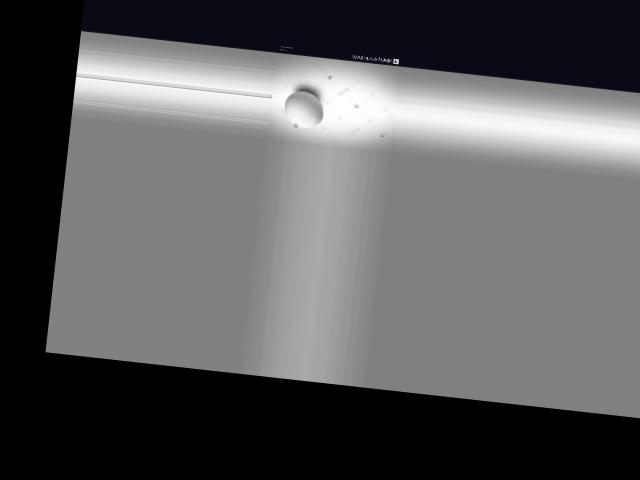egg: (281, 88, 324, 128)
